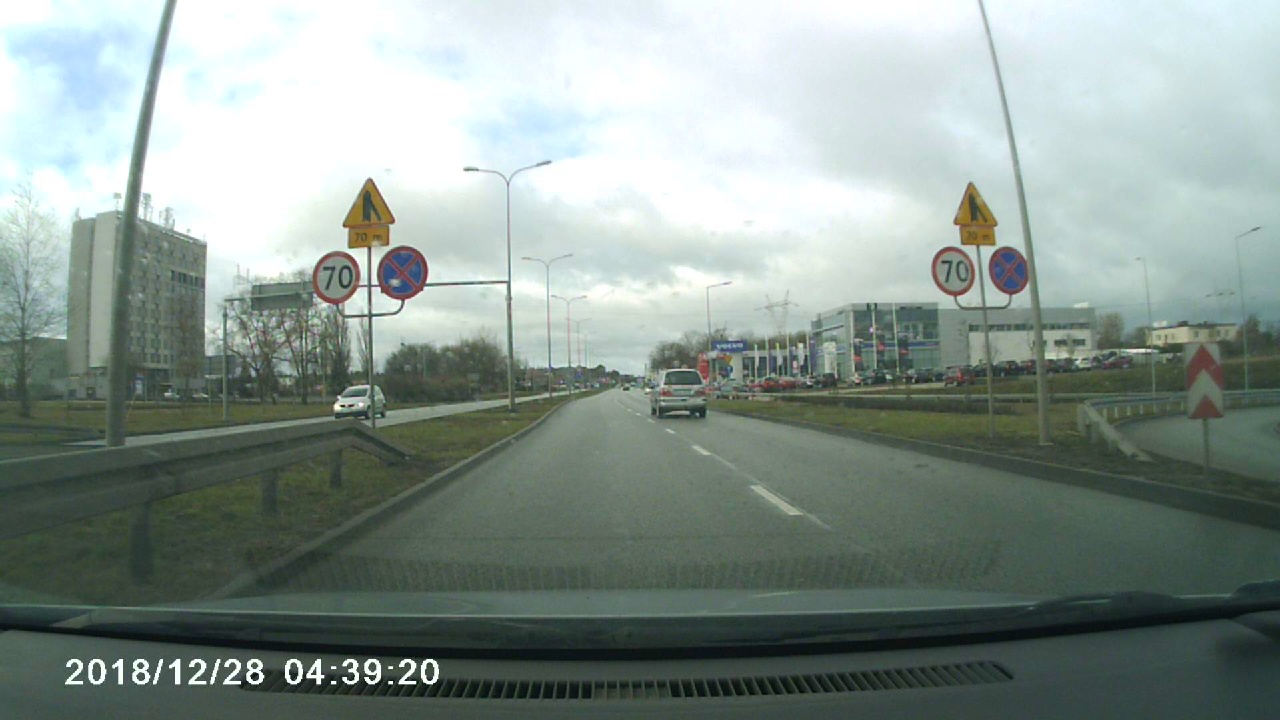A6d: (339, 174, 396, 224), (950, 179, 1002, 226)
B33_70: (305, 249, 363, 305), (926, 244, 976, 294)
B35: (375, 246, 431, 300), (985, 245, 1033, 294)
